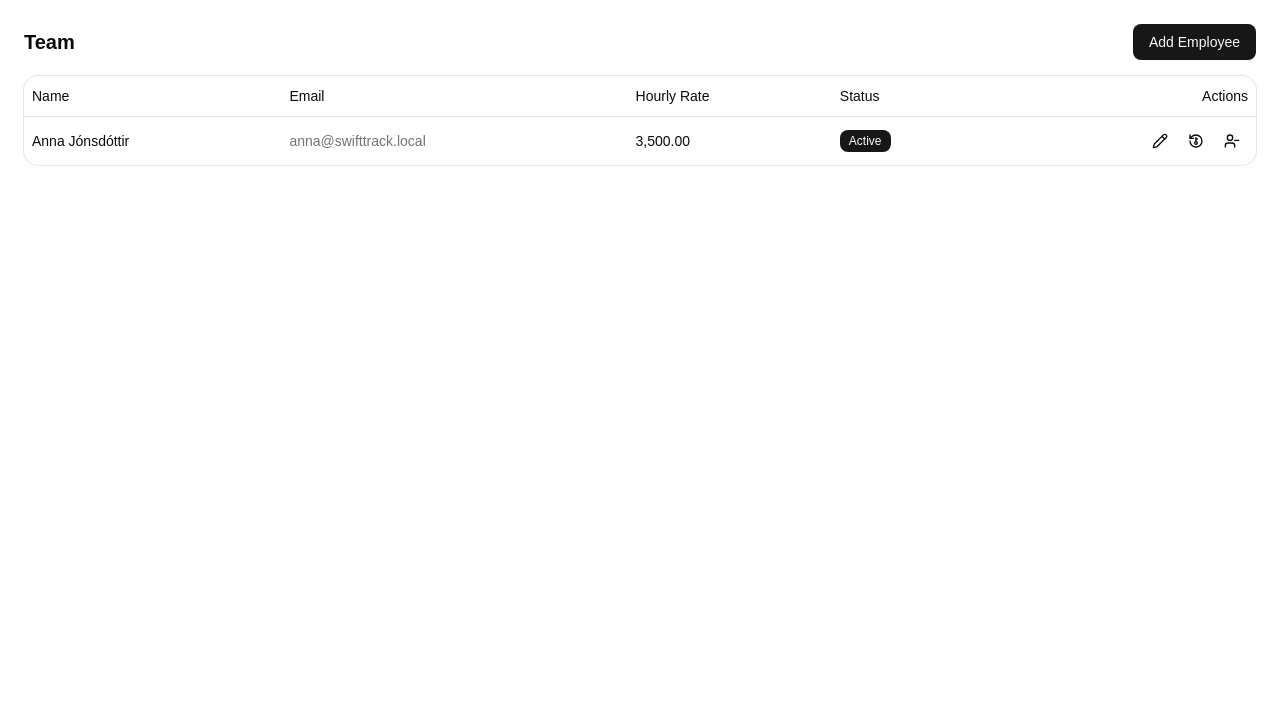
TeamPage — editing an employee › keeps the buttons outside the scrolling area
The width and height of the screenshot is (1280, 720).
Click the button named "Edit employee".
click(1160, 140)  # box top-left (1144, 124), bottom-right (1176, 156)
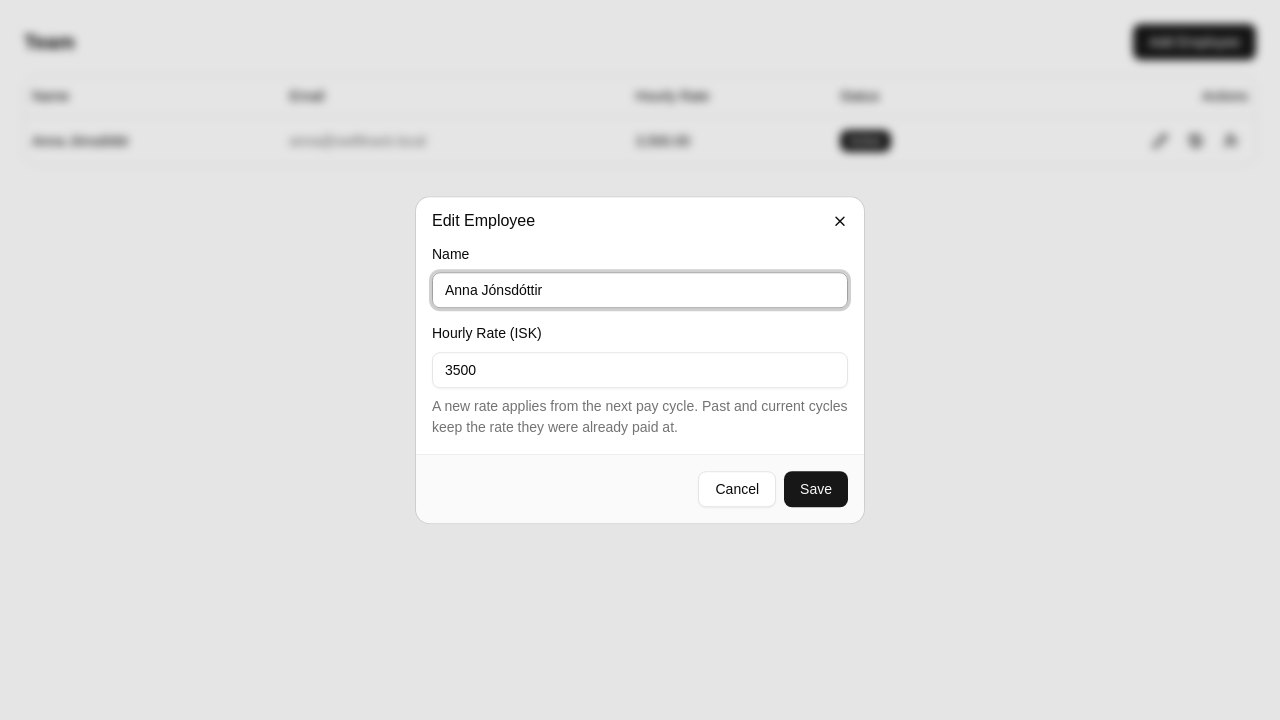
expect the element that starts with "Name" is shown: met, box top-left (416, 245), bottom-right (864, 438)
